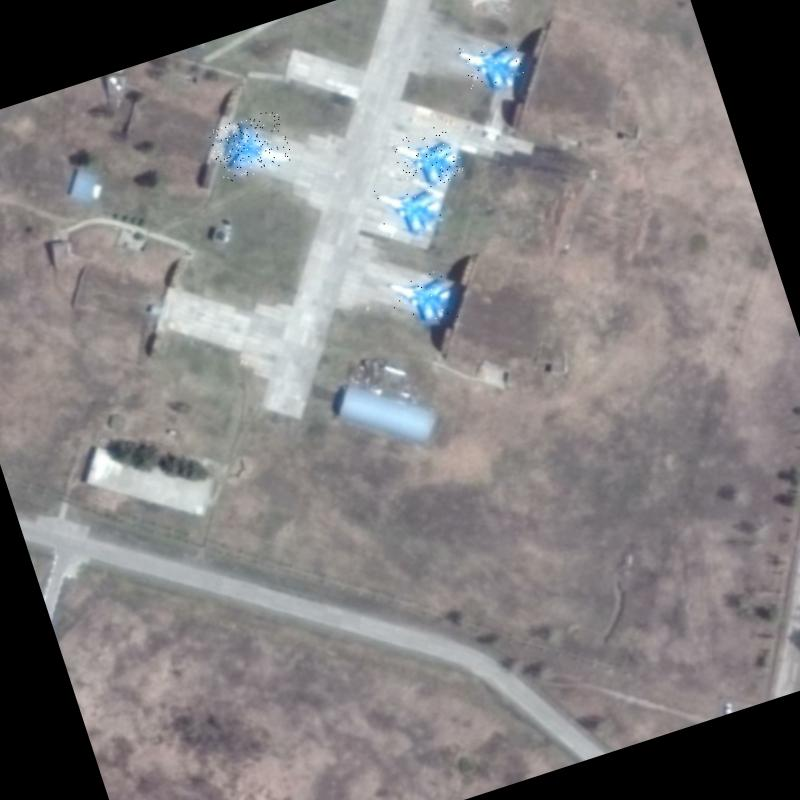A19: (206, 108, 294, 184), (382, 260, 466, 336), (450, 26, 531, 102), (372, 172, 451, 245), (389, 123, 466, 196)
